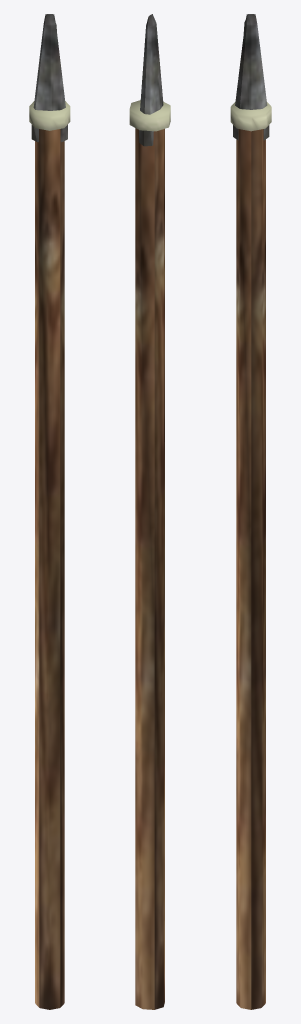
File: inca_spear_1.dae
3 views of the same model, side by side, from view 1: azimuth 90°, elevation 25°; view 2: azimuth 150°, elevation 25°; view 3: azimuth 270°, elevation 25° (orthographic).
Visible parts, largest first — view 1: spear1; view 2: spear1; view 3: spear1.
Boxes of the visible parts, x1,y1,x2,y2 form: spear1: (29,14,70,1009); spear1: (129,14,170,1009); spear1: (230,14,271,1009).
Bounding box in the file's own units: 0.2747 × 0.2747 × 4.13.
